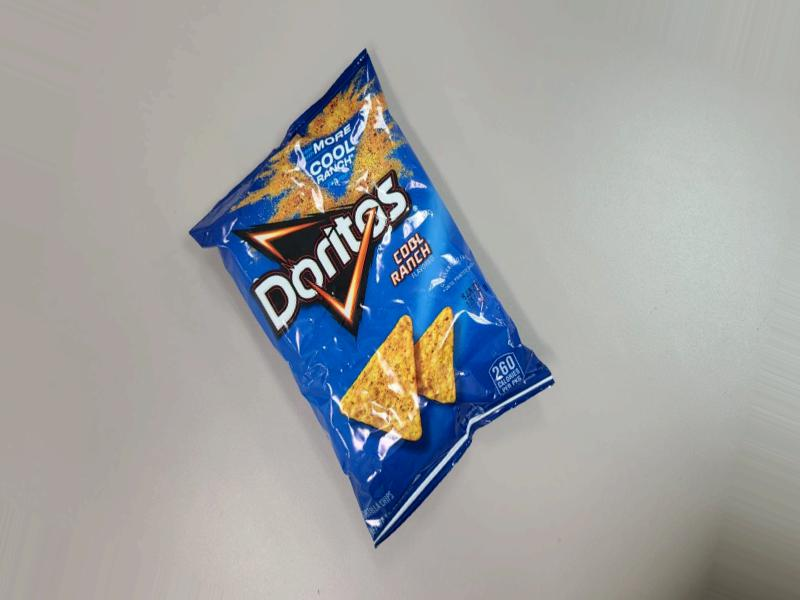doritos: (188, 102, 575, 600)
